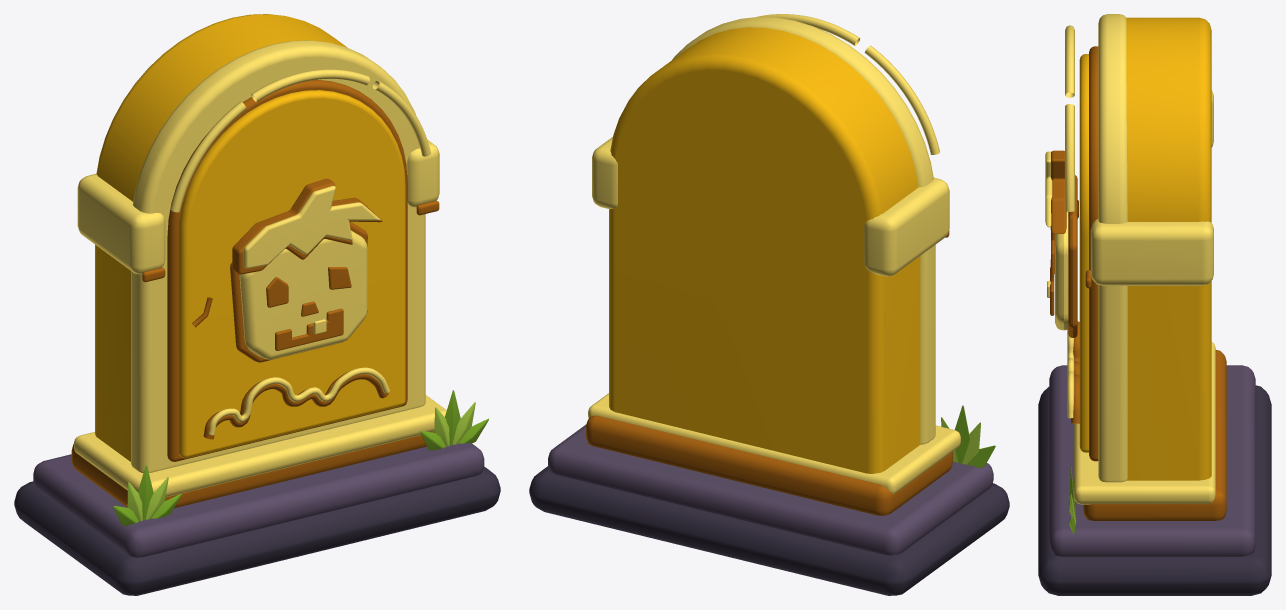
Rendered from Grave_Golden.glb.
3 views of the same model, side by side, from view 1: azimuth 30°, elevation 25°; view 2: azimuth 150°, elevation 25°; view 3: azimuth 270°, elevation 25° (orthographic).
Parts seen in each view (by area): view 1: Headstone / inset front panel.003, Headstone / raised outer border.003, Base / lower basalt.003, Headstone / solid arched body.003, Base / bevelled upper step.003, Foot / highlight lip.003, Emblem / raised zombie face.003, Headstone / recessed outline.003, Shoulder / sculpted side block.006, Emblem / hair highlight.003, Foot / broad material shoe.003, Emblem / messy hair silhouette.003 (+8 smaller); view 2: Headstone / solid arched body.003, Base / lower basalt.003, Base / bevelled upper step.003, Foot / broad material shoe.003, Headstone / raised outer border.003, Shoulder / sculpted side block.006, Foot / highlight lip.003, Shoulder / sculpted side block.007, Crown / curved raised band.011, Crown / curved raised band.010; view 3: Headstone / solid arched body.003, Base / bevelled upper step.003, Base / lower basalt.003, Headstone / raised outer border.003, Shoulder / sculpted side block.007, Foot / highlight lip.003, Foot / broad material shoe.003, Headstone / inset front panel.003, Headstone / recessed outline.003, Emblem / raised zombie face.003, Emblem / dark carved silhouette.003, Emblem / messy hair silhouette.003 (+5 smaller).
Part boxes in pixels (<box>): Headstone / inset front panel.003: <box>178,90,405,458</box>; Headstone / raised outer border.003: <box>131,40,425,472</box>; Base / lower basalt.003: <box>14,466,500,595</box>; Headstone / solid arched body.003: <box>95,14,346,461</box>; Base / bevelled upper step.003: <box>33,443,484,557</box>; Foot / highlight lip.003: <box>74,395,446,497</box>; Emblem / raised zombie face.003: <box>239,230,367,359</box>; Headstone / recessed outline.003: <box>167,79,407,461</box>; Shoulder / sculpted side block.006: <box>77,174,165,274</box>; Emblem / hair highlight.003: <box>243,185,380,268</box>; Foot / broad material shoe.003: <box>71,432,434,508</box>; Emblem / messy hair silhouette.003: <box>232,178,382,274</box>; Headstone / solid arched body.003: <box>609,27,920,473</box>; Base / lower basalt.003: <box>529,466,1009,595</box>; Base / bevelled upper step.003: <box>548,424,993,555</box>; Foot / broad material shoe.003: <box>586,415,952,515</box>; Headstone / raised outer border.003: <box>672,16,935,444</box>; Shoulder / sculpted side block.006: <box>864,177,949,276</box>; Foot / highlight lip.003: <box>588,393,960,494</box>; Shoulder / sculpted side block.007: <box>592,137,617,209</box>; Crown / curved raised band.011: <box>864,45,939,154</box>; Crown / curved raised band.010: <box>757,14,860,45</box>; Headstone / solid arched body.003: <box>1126,17,1211,480</box>; Base / bevelled upper step.003: <box>1049,365,1255,556</box>; Base / lower basalt.003: <box>1038,385,1271,595</box>; Headstone / raised outer border.003: <box>1098,14,1127,482</box>; Shoulder / sculpted side block.007: <box>1090,219,1213,285</box>; Foot / highlight lip.003: <box>1074,342,1215,504</box>; Foot / broad material shoe.003: <box>1083,350,1226,520</box>; Headstone / inset front panel.003: <box>1079,54,1088,452</box>; Headstone / recessed outline.003: <box>1089,46,1098,461</box>; Emblem / raised zombie face.003: <box>1055,211,1068,330</box>; Emblem / dark carved silhouette.003: <box>1068,175,1077,337</box>; Emblem / messy hair silhouette.003: <box>1050,150,1066,234</box>.
Size of the model in its own units: 2.6 by 3.14 by 1.38.
